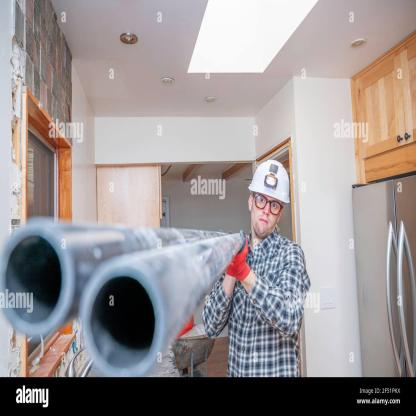PVC: (0, 222, 244, 377)
